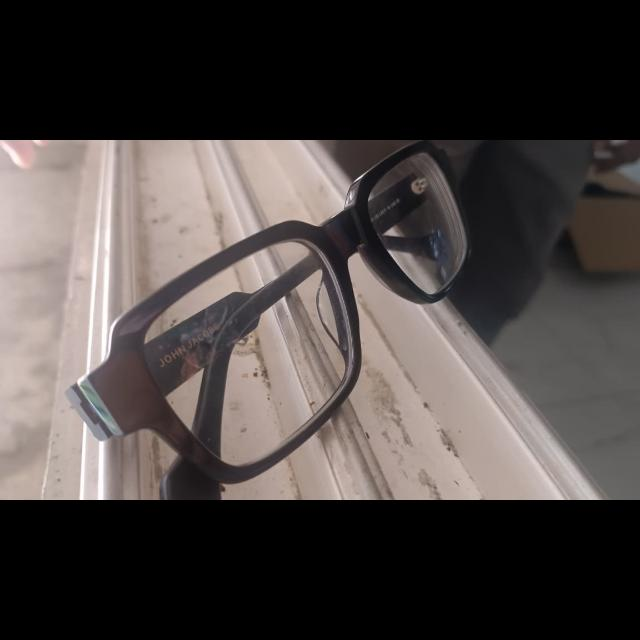glasses: (70, 140, 463, 496)
